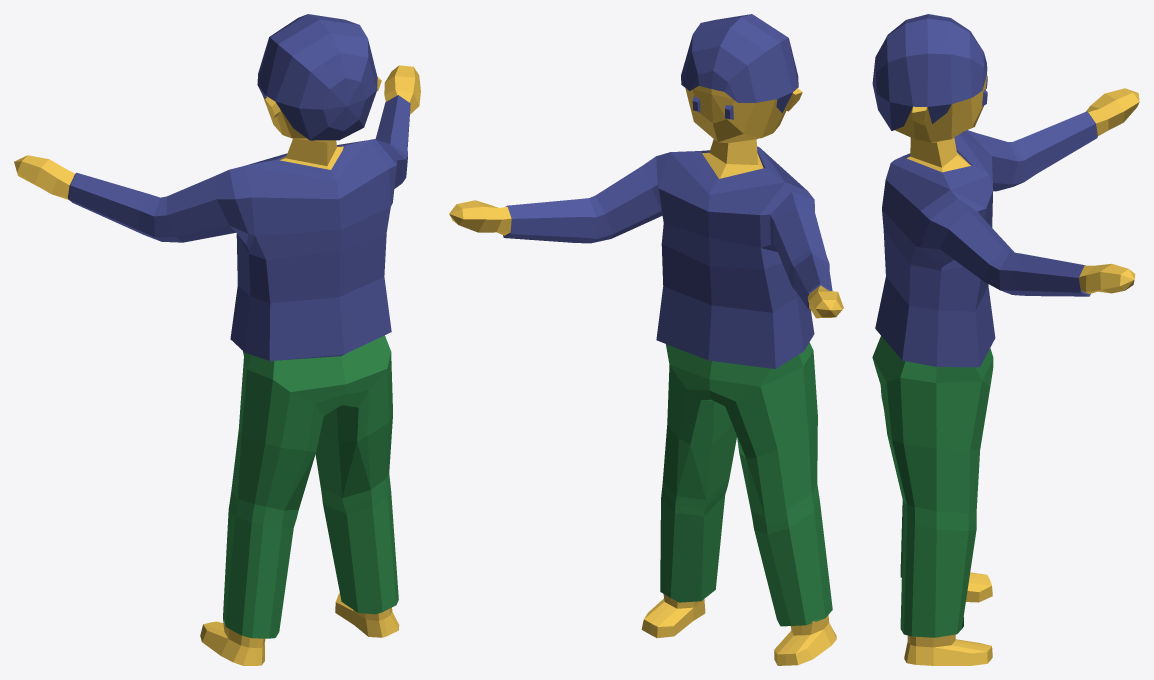
3 renders of one model, left to right at view 1: azimuth 30°, elevation 25°; view 2: azimuth 150°, elevation 25°; view 3: azimuth 270°, elevation 25°, orthographic.
Parts seen in each view (by area): view 1: 立方体042_3, 立方体042_2, 立方体042, 立方体042_1; view 2: 立方体042_3, 立方体042_2, 立方体042_1, 立方体042; view 3: 立方体042_3, 立方体042_2, 立方体042_1, 立方体042.
Boxes of the visible parts, x1=… form: 立方体042_3: x1=68, y1=95, x2=410, y2=360; 立方体042_2: x1=223, y1=335, x2=398, y2=638; 立方体042: x1=257, y1=14, x2=377, y2=140; 立方体042_1: x1=14, y1=65, x2=420, y2=665; 立方体042_3: x1=503, y1=146, x2=832, y2=368; 立方体042_2: x1=660, y1=342, x2=832, y2=626; 立方体042_1: x1=449, y1=86, x2=843, y2=665; 立方体042: x1=681, y1=14, x2=798, y2=119; 立方体042_3: x1=875, y1=111, x2=1097, y2=367; 立方体042_2: x1=872, y1=336, x2=993, y2=637; 立方体042_1: x1=895, y1=75, x2=1139, y2=665; 立方体042: x1=872, y1=14, x2=987, y2=130.
Bounding box in the file's own units: 1.39 × 2.06 × 0.8123.
